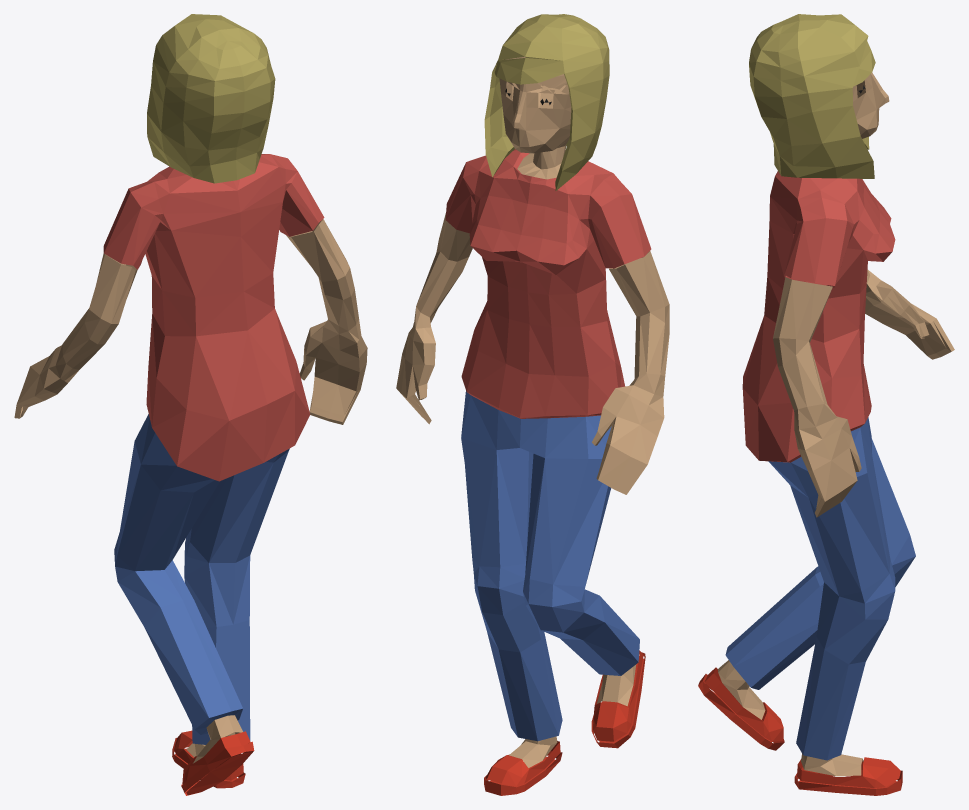
Rendered from person_6_w0.fbx.
3 renders of one model, left to right at view 1: azimuth 30°, elevation 25°; view 2: azimuth 150°, elevation 25°; view 3: azimuth 270°, elevation 25°, orthographic. The views are drawn at different scales.
Visible parts, largest first — view 1: Woman; view 2: Woman; view 3: Woman.
Part boxes in pixels (box(x1,y1,x2,y2)): Woman: box(14, 14, 367, 795); Woman: box(396, 14, 669, 795); Woman: box(698, 14, 954, 795).
Size of the model in its own units: 0.4132 by 1 by 0.3065.
